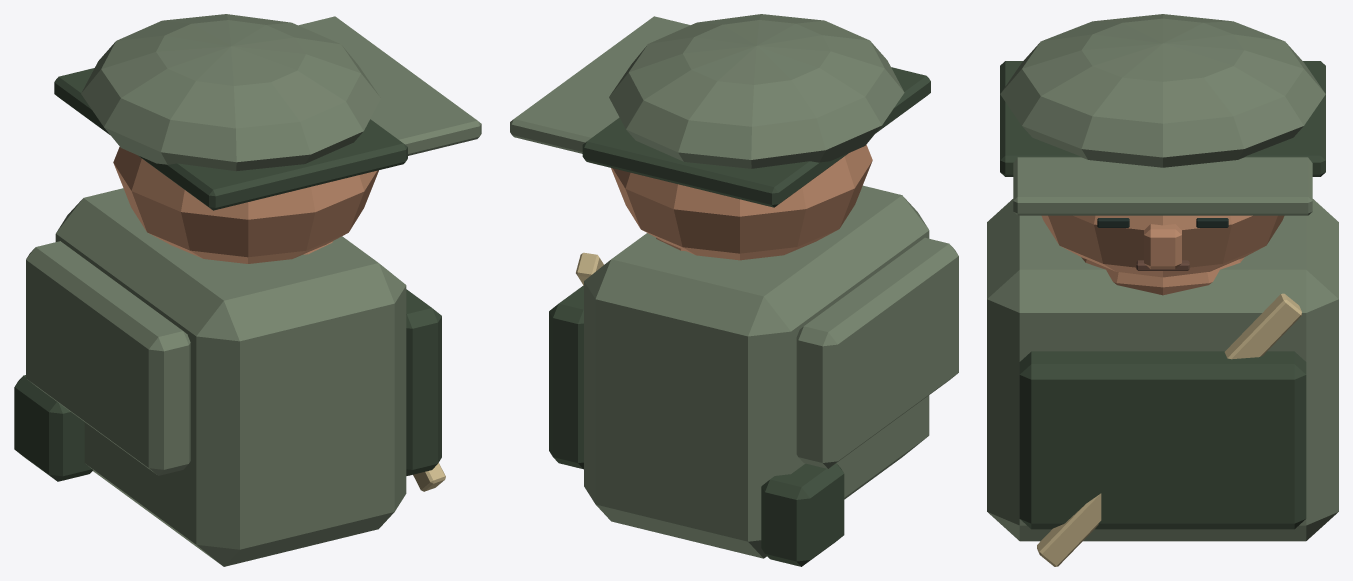
File: field-ranger.signature.glb
3 renders of one model, left to right at view 1: azimuth 30°, elevation 25°; view 2: azimuth 150°, elevation 25°; view 3: azimuth 270°, elevation 25°, orthographic. The views are drawn at different scales.
Visible parts, largest first — view 1: field_ranger_signature__main__torso, field_ranger_signature__main__head; view 2: field_ranger_signature__main__torso, field_ranger_signature__main__head; view 3: field_ranger_signature__main__torso, field_ranger_signature__main__head.
Boxes of the visible parts, box(x1,y1,x2,y2) form: field_ranger_signature__main__torso: box(14, 188, 445, 566); field_ranger_signature__main__head: box(54, 14, 481, 263); field_ranger_signature__main__torso: box(549, 185, 958, 566); field_ranger_signature__main__head: box(510, 14, 930, 260); field_ranger_signature__main__torso: box(987, 199, 1338, 566); field_ranger_signature__main__head: box(1000, 14, 1325, 295).
Size of the model in its own units: 29.2 by 38.9 by 27.
